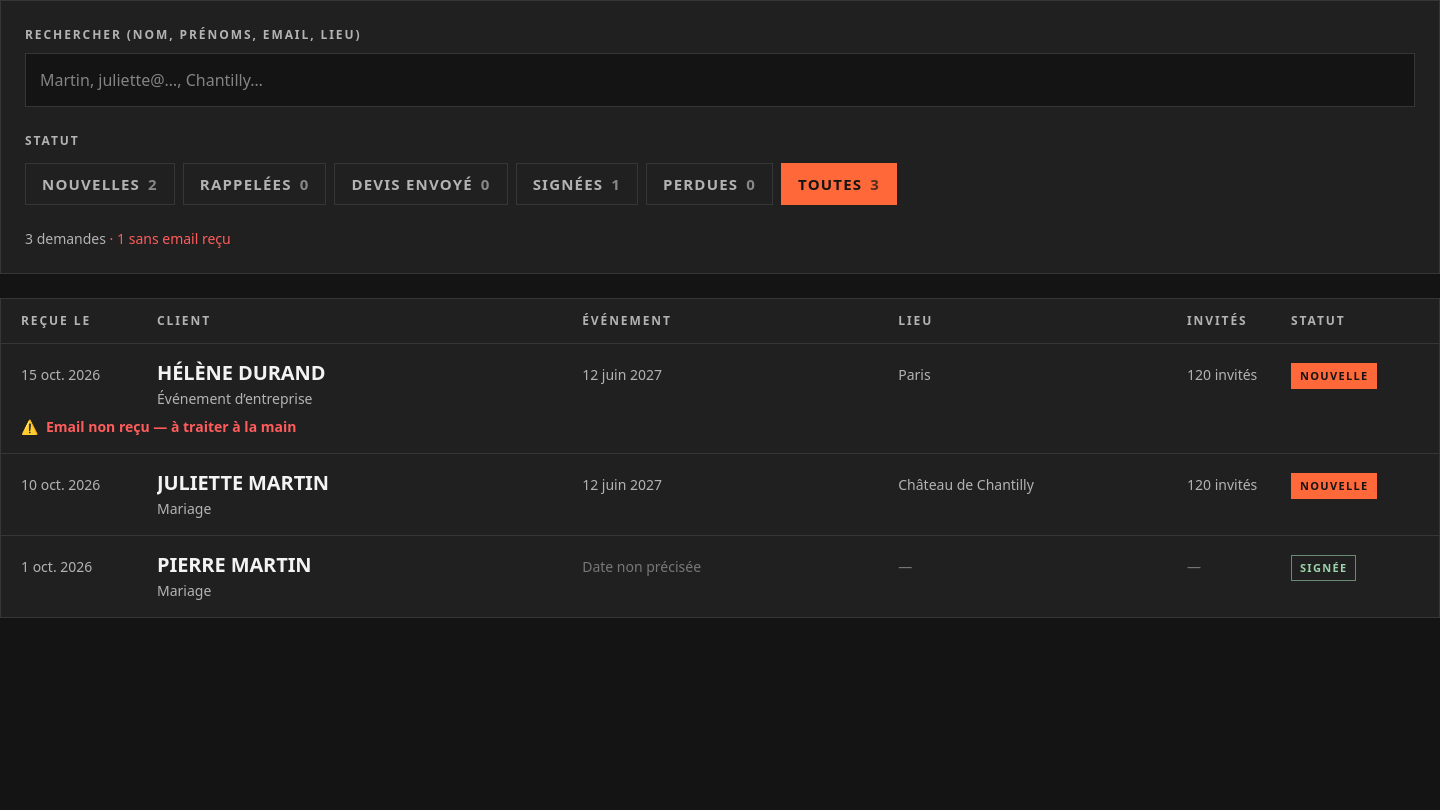
Test: GestionDemandes — fiche › échec d’enregistrement : toast, pastille « non enregistré », et avertissement avant de fermer
The image size is (1440, 810).
Click the button with aria-label "Ouvrir la demande de Juliette Martin": [243, 483] box [157,470,329,495]
(page scrolled)
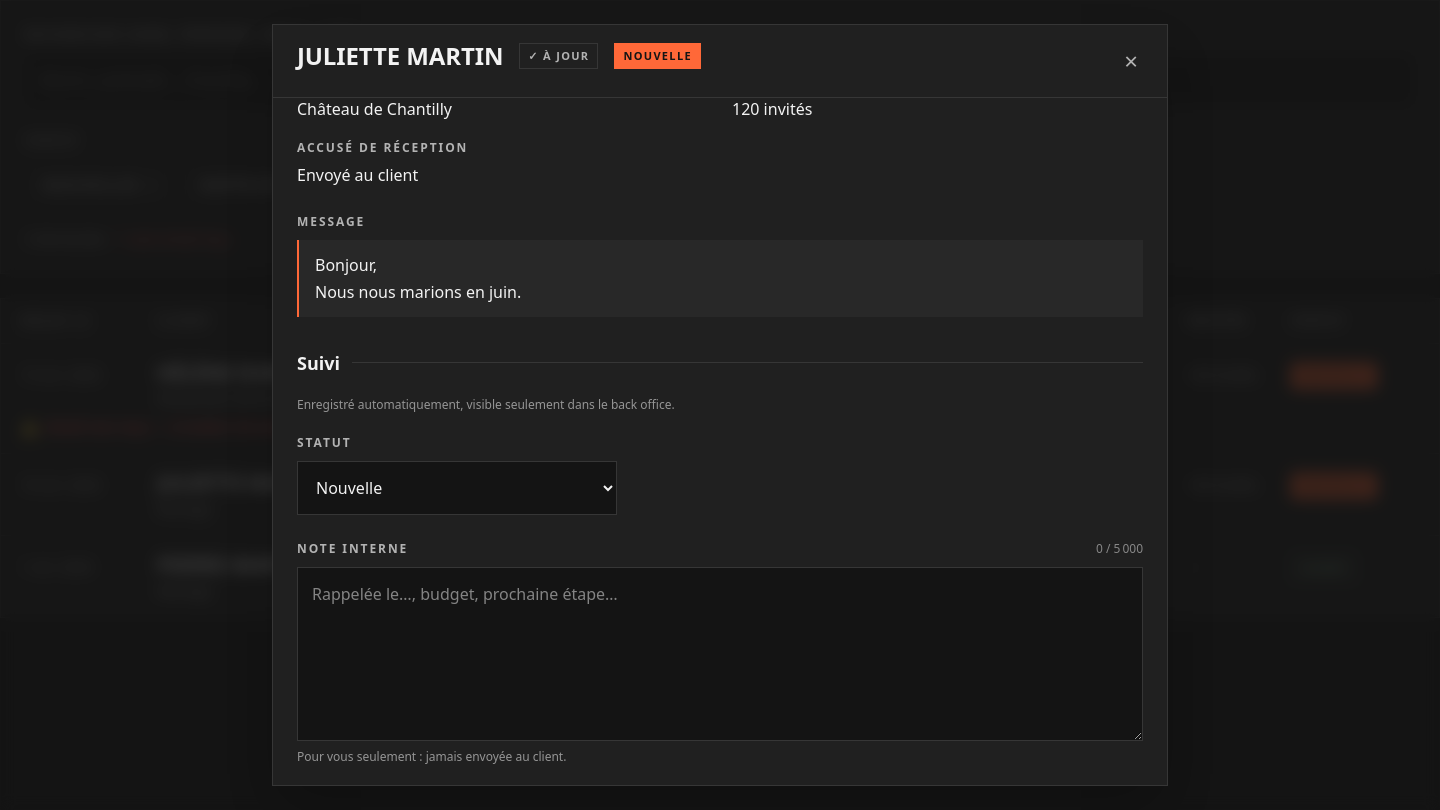
Select "Perdue" in the dropdown labelled "Statut": [457, 488] box [297,461,617,515]
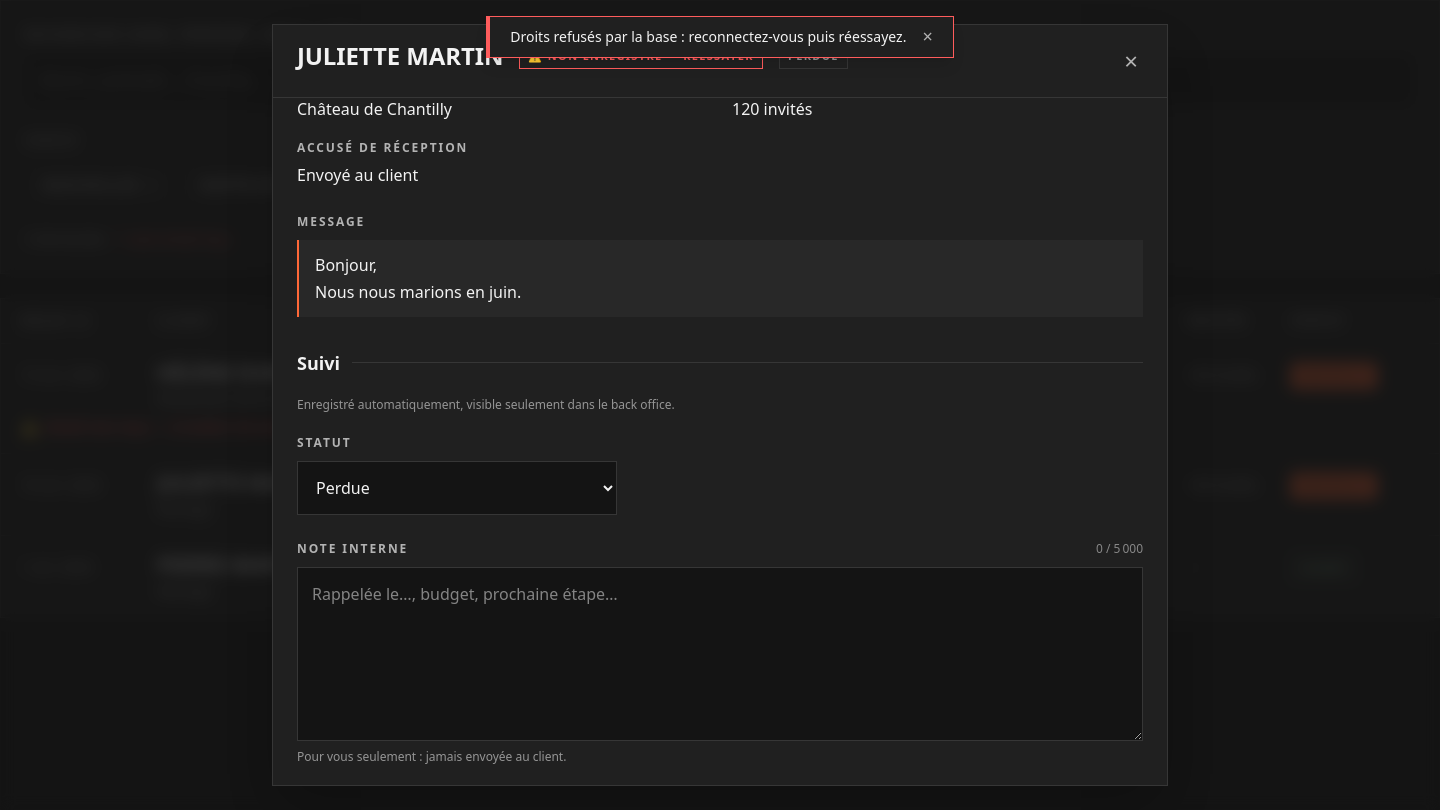
Now the button "⚠ Non enregistré — réessayer" is shown, box [519,43,763,69]
Now the text "Droits refusés par la base : reconnectez-vous puis réessayez." is shown, box [510,27,906,47]
Click the button named "Fermer": [1131, 61] box [1111,41,1151,81]
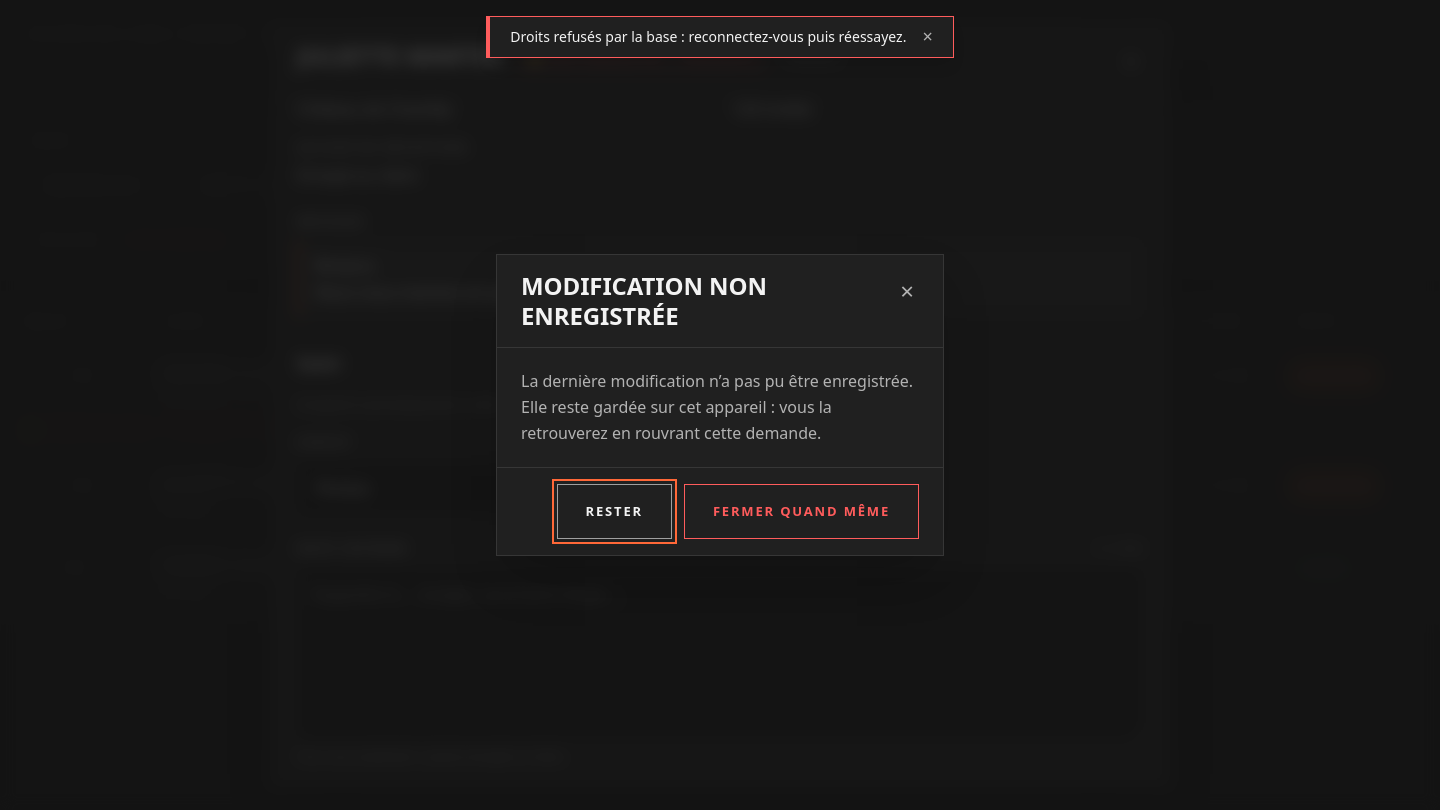
Now the dialog "Modification non enregistrée" is shown, box [496,254,944,556]
